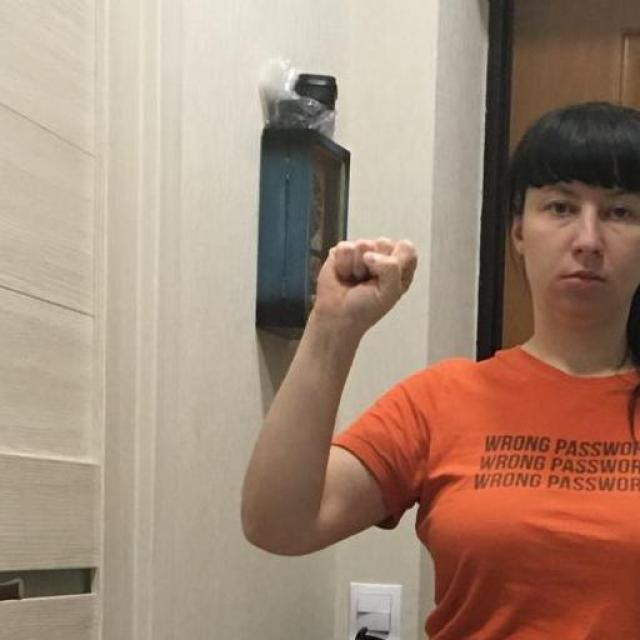hand: (307, 234, 418, 338)
